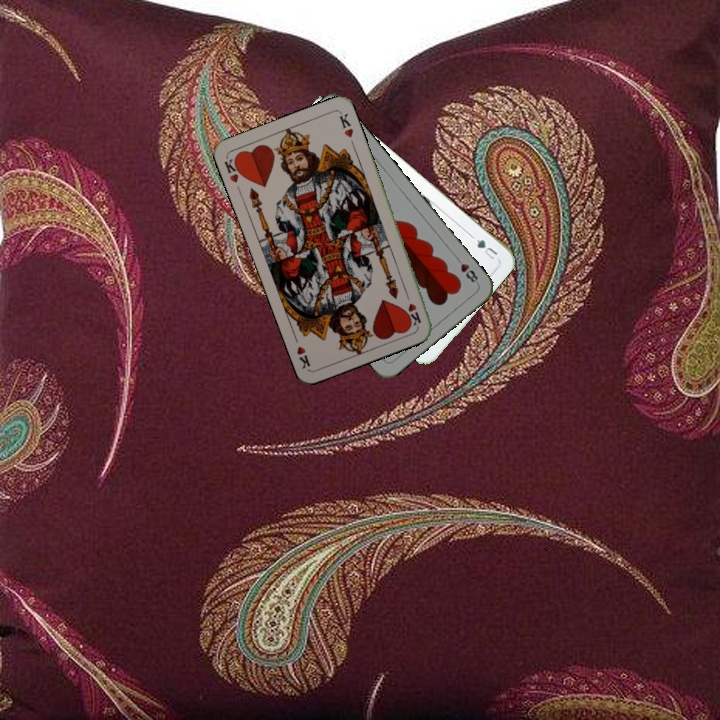GU: (472, 235, 500, 262)
H8: (451, 253, 481, 287)
HK: (401, 288, 423, 328), (220, 152, 246, 185)
